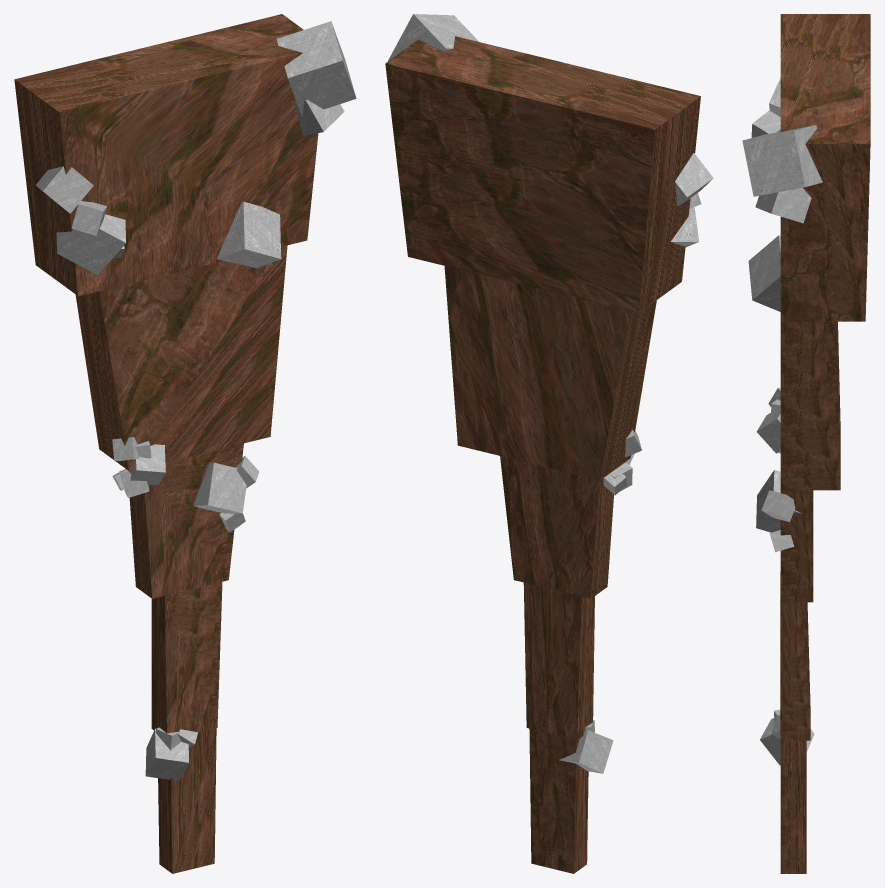
Rendered from falls_bridge.fbx.
The picture shows the model from 3 angles, left to right: view 1: azimuth 30°, elevation 25°; view 2: azimuth 150°, elevation 25°; view 3: azimuth 270°, elevation 25°; orthographic projection.
Visible parts, largest first — view 1: pCube1153, MoonRock10__BodyMT; view 2: pCube1153, MoonRock10__BodyMT; view 3: pCube1153, MoonRock10__BodyMT.
Part boxes in pixels (x1,y1,x2,y2): pCube1153: (14, 14, 318, 873); MoonRock10__BodyMT: (36, 21, 356, 781); pCube1153: (385, 36, 700, 873); MoonRock10__BodyMT: (388, 14, 713, 773); pCube1153: (780, 14, 870, 873); MoonRock10__BodyMT: (742, 78, 822, 765).
Size of the model in its own units: 846 by 2087 by 302.
Materials: 2 (2 with a texture image).
